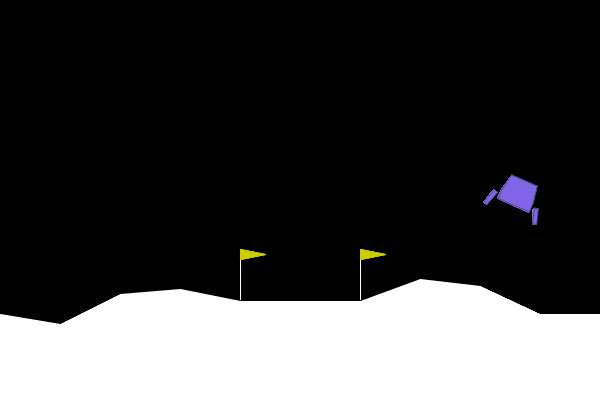lander: (481, 167, 552, 228)
